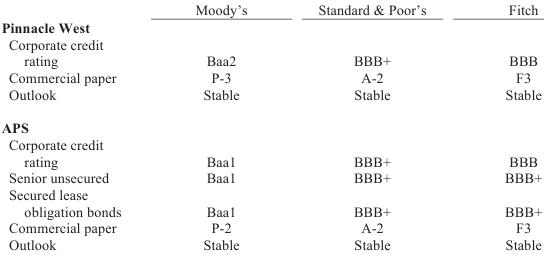table: (0, 0, 541, 252)
table column: (282, 0, 464, 252), (0, 0, 157, 252), (157, 0, 282, 252), (464, 0, 541, 252)
table column header: (0, 0, 541, 18)
table projected row header: (0, 110, 541, 135), (0, 18, 541, 35)
table row: (0, 35, 541, 69), (0, 135, 541, 169), (0, 185, 541, 219), (0, 85, 541, 110), (0, 110, 541, 135), (0, 0, 541, 18), (0, 18, 541, 35), (0, 219, 541, 236), (0, 69, 541, 85), (0, 169, 541, 185), (0, 236, 541, 252)
